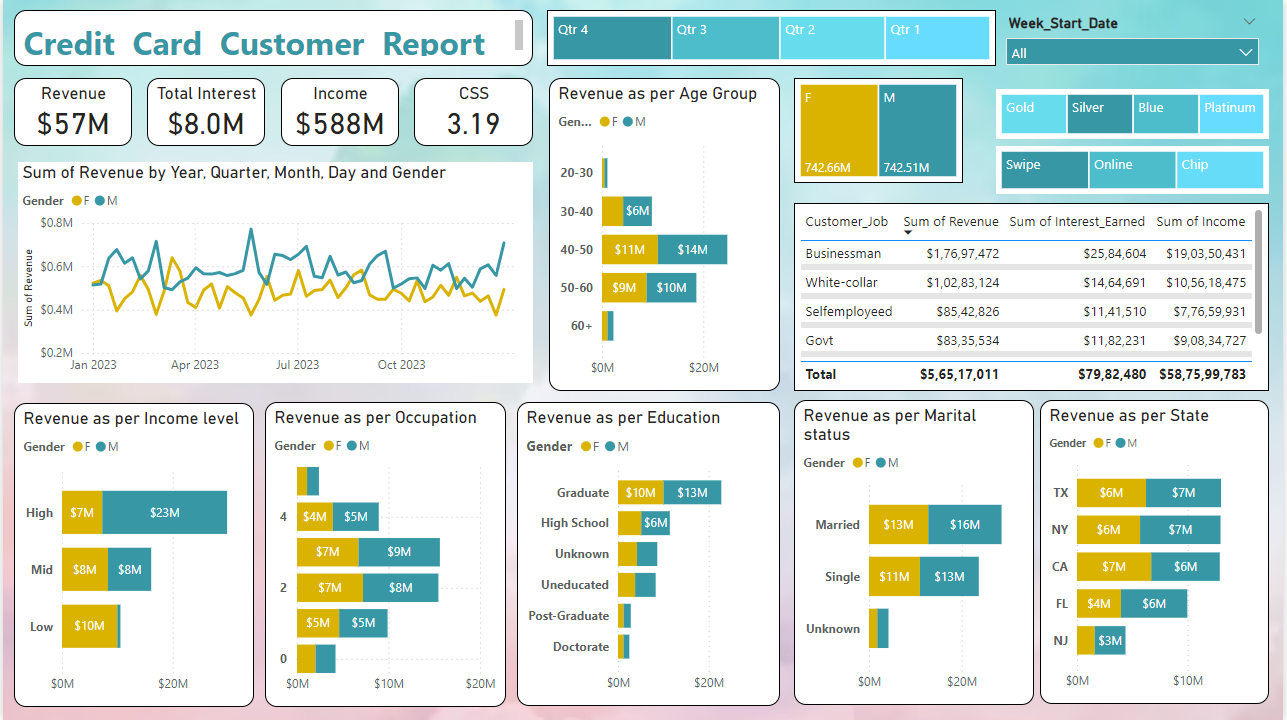

The page's visual inventory and layout, read from the dashboard file:
{"tool":"powerbi","page":{"name":"CC customer","canvas":[1280,720],"ordinal":2},"visuals":[{"type":"textbox","box":[10.6,9.8,519.6,55.9],"z":0},{"type":"barChart","title":"Revenue as per Income level","fields":{"Category":["cust_detail.Income_Group"],"Y":["Sum(cc_detail.Revenue)"],"Series":["cust_detail.Gender"]},"box":[11,403.1,240.4,304.3],"z":1000},{"type":"tableEx","fields":{"Values":["cust_detail.Customer_Job","Sum(cc_detail.Revenue)","Sum(cc_detail.Interest_Earned)","Sum(cust_detail.Income)"]},"box":[791.1,202.5,474.9,188.6],"z":2000},{"type":"card","title":"Revenue","fields":{"Values":["Sum(cc_detail.Revenue)"]},"box":[10.6,78,117.9,68.3],"z":3000},{"type":"card","title":"Total Interest","fields":{"Values":["Sum(cc_detail.Interest_Earned)"]},"box":[144.2,78,117.9,68.3],"z":4000},{"type":"card","title":"Income","fields":{"Values":["Sum(cust_detail.Income)"]},"box":[277.8,78,117.9,68.3],"z":5000},{"type":"card","title":"CSS","fields":{"Values":["Avg(cust_detail.Cust_Satisfaction_Score)"]},"box":[411.4,78,118.8,68.3],"z":6000},{"type":"slicer","fields":{"Values":["cc_detail.Week_Start_Date"]},"box":[993.1,9.8,273.1,76.3],"z":7000},{"type":"treemap","fields":{"Group":["cc_detail.Week_Start_Date.Variation.Date Hierarchy.Quarter"],"Values":["Avg(cust_detail.Client_Num)"]},"box":[543.7,10,448.9,55.9],"z":8000},{"type":"treemap","fields":{"Group":["cust_detail.Gender"],"Values":["Avg(cust_detail.Client_Num)"]},"box":[791.1,77.8,168.6,104.8],"z":9000},{"type":"treemap","fields":{"Group":["cc_detail.Card_Category"],"Values":["Avg(cust_detail.Client_Num)"]},"box":[992.7,88.8,273.4,49.9],"z":10000},{"type":"treemap","fields":{"Values":["Avg(cust_detail.Client_Num)"],"Group":["cc_detail.Use_Chip"]},"box":[992.7,145.7,273.4,47.9],"z":11000},{"type":"lineChart","fields":{"Category":["cc_detail.Week_Start_Date.Variation.Date Hierarchy.Year","cc_detail.Week_Start_Date.Variation.Date Hierarchy.Quarter","cc_detail.Week_Start_Date.Variation.Date Hierarchy.Month","cc_detail.Week_Start_Date.Variation.Date Hierarchy.Day"],"Y":["Sum(cc_detail.Revenue)"],"Series":["cust_detail.Gender"]},"box":[15.1,162.3,515.2,220.8],"z":12000},{"type":"barChart","title":"Revenue as per Age Group","fields":{"Category":["cust_detail.Age_Group"],"Y":["Sum(cc_detail.Revenue)"],"Series":["cust_detail.Gender"]},"box":[545.7,77.8,231.5,313.3],"z":13000},{"type":"barChart","title":"Revenue as per Occupation","fields":{"Category":["cust_detail.Dependent_Count"],"Y":["Sum(cc_detail.Revenue)"],"Series":["cust_detail.Gender"]},"box":[262.4,402.1,240.4,305.3],"z":14000},{"type":"barChart","title":"Revenue as per Education","fields":{"Category":["cust_detail.Education_Level"],"Y":["Sum(cc_detail.Revenue)"],"Series":["cust_detail.Gender"]},"box":[513.8,402.1,263.4,304.3],"z":15000},{"type":"barChart","title":"Revenue as per State","fields":{"Category":["cust_detail.State_cd"],"Y":["Sum(cc_detail.Revenue)"],"Series":["cust_detail.Gender"]},"box":[1037.4,399.9,228.8,304.1],"z":16000},{"type":"barChart","title":"Revenue as per Marital status","fields":{"Category":["cust_detail.Marital_Status"],"Y":["Sum(cc_detail.Revenue)"],"Series":["cust_detail.Gender"]},"box":[791.1,400.1,239.4,305.3],"z":17000}]}

Visuals, with their boxes in screenshot pixels (x1, y1, x2, y2), scaled from the page's 1280x720 canvas onto the 1287x720 screenshot:
textbox: 11 10 533 66
"Revenue as per Income level" barChart: 11 403 253 707
tableEx - cust_detail.Customer_Job x Sum(cc_detail.Revenue): 795 202 1273 391
"Revenue" card: 11 78 129 146
"Total Interest" card: 145 78 264 146
"Income" card: 279 78 398 146
"CSS" card: 414 78 533 146
slicer - cc_detail.Week_Start_Date: 999 10 1273 86
treemap - cc_detail.Week_Start_Date.Variation.Date Hierarchy.Quarter x Avg(cust_detail.Client_Num): 547 10 998 66
treemap - cust_detail.Gender x Avg(cust_detail.Client_Num): 795 78 965 183
treemap - cc_detail.Card_Category x Avg(cust_detail.Client_Num): 998 89 1273 139
treemap - Avg(cust_detail.Client_Num) x cc_detail.Use_Chip: 998 146 1273 194
lineChart - cc_detail.Week_Start_Date.Variation.Date Hierarchy.Year x cc_detail.Week_Start_Date.Variation.Date Hierarchy.Quarter: 15 162 533 383
"Revenue as per Age Group" barChart: 549 78 781 391
"Revenue as per Occupation" barChart: 264 402 506 707
"Revenue as per Education" barChart: 517 402 781 706
"Revenue as per State" barChart: 1043 400 1273 704
"Revenue as per Marital status" barChart: 795 400 1036 705
